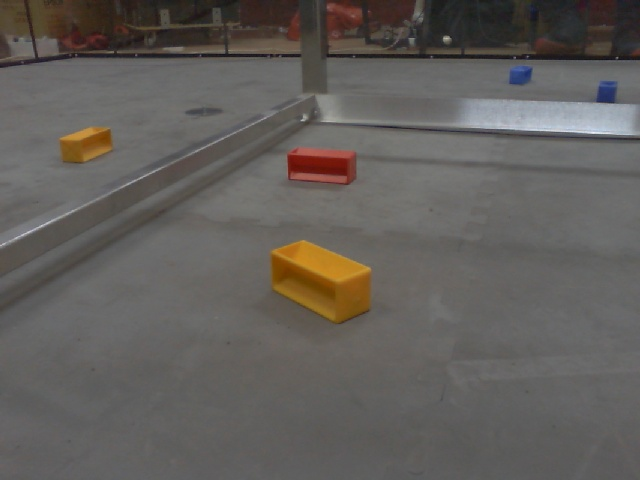BlueSample: (505, 63, 534, 87), (593, 78, 619, 104)
RedSample: (283, 143, 360, 187)
YellowSample: (268, 239, 378, 324), (57, 125, 117, 162)
